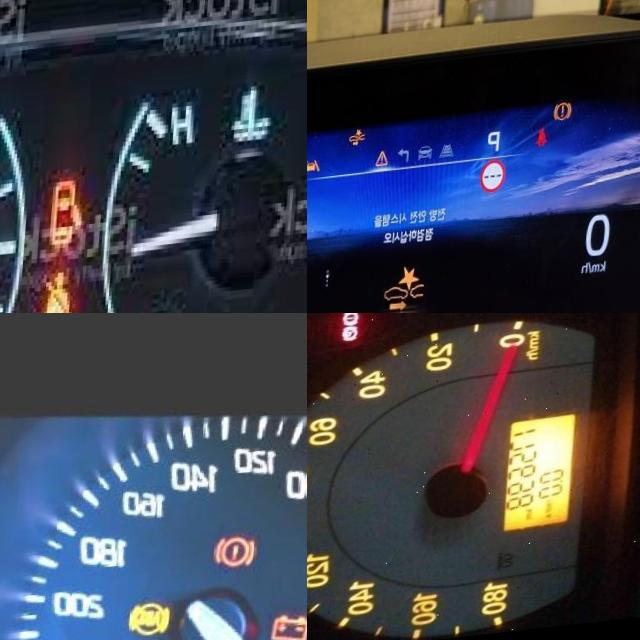Central Warning lamp: (382, 154, 395, 174)
LaneCenteringOff: (307, 163, 326, 179)
Seat Belt: (43, 275, 86, 313)
